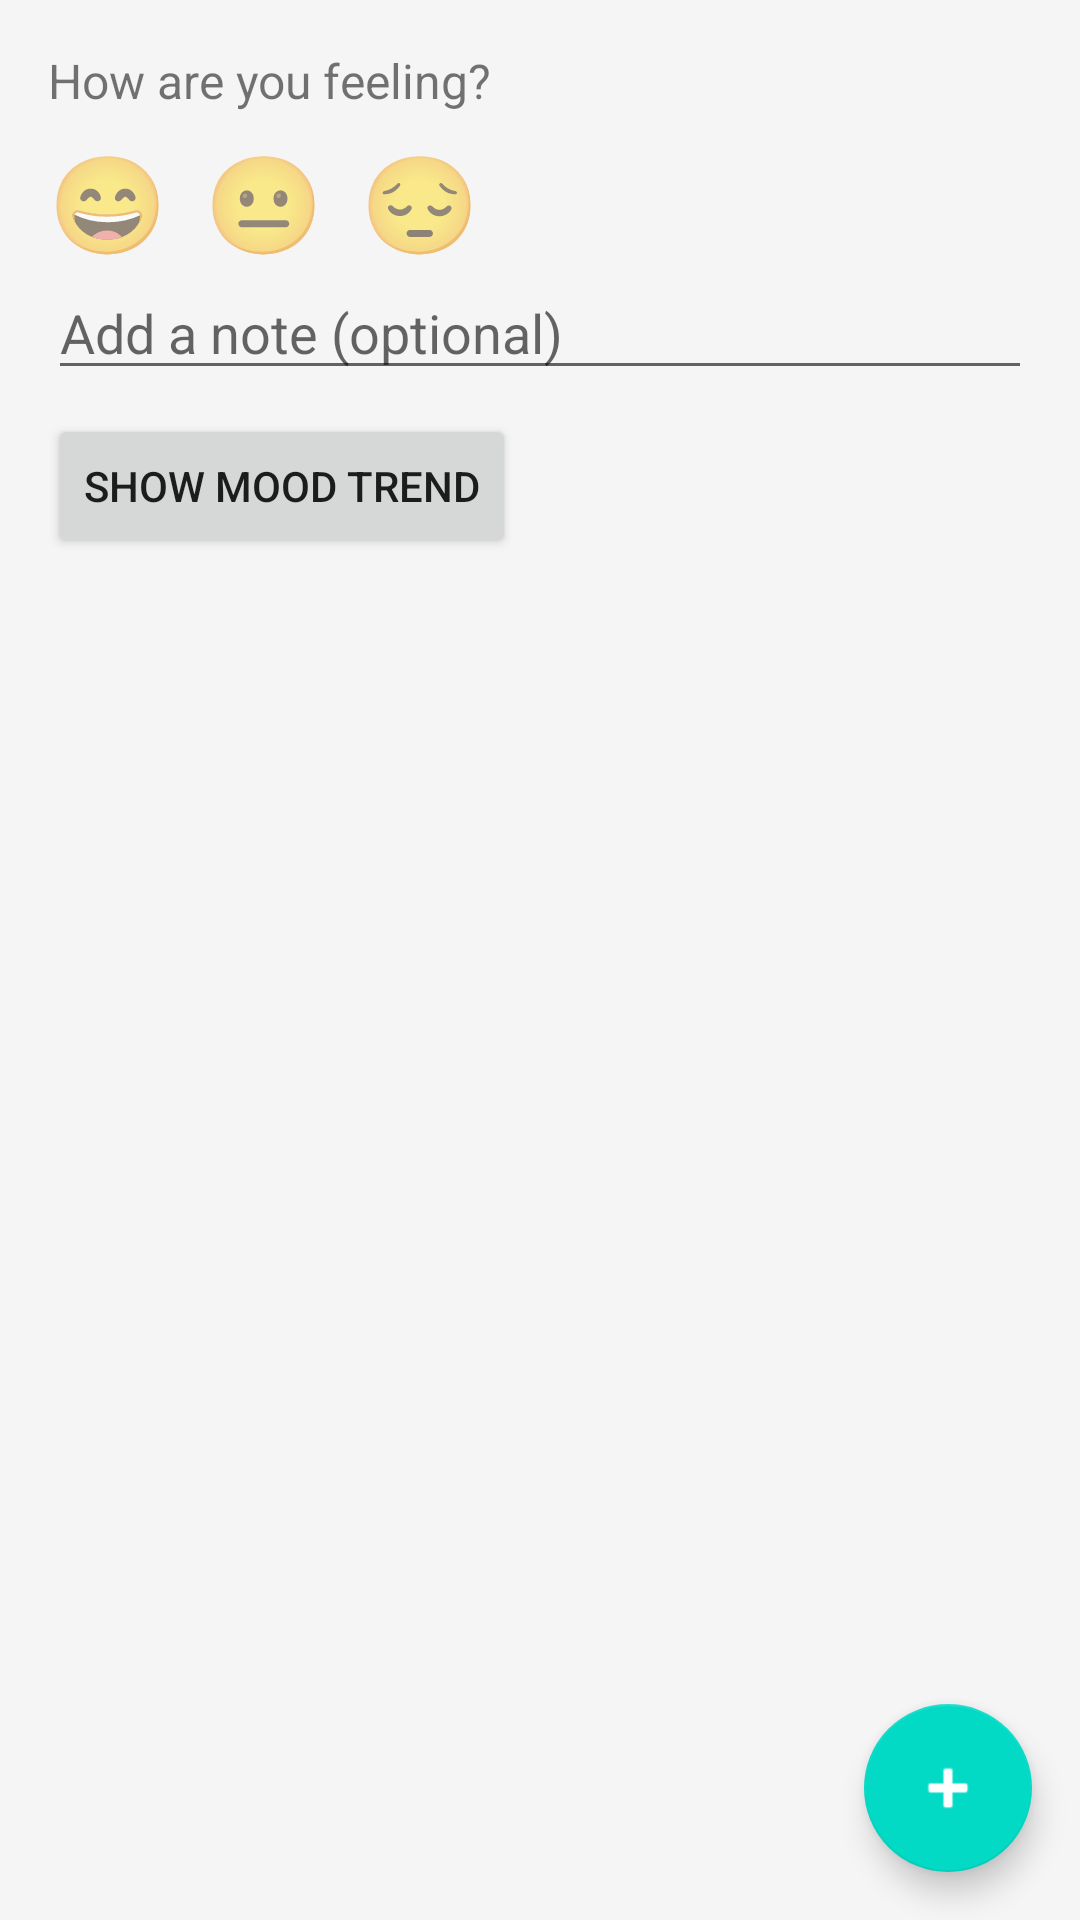

Named icons in this screenshot (1080px x 1920px) and their centers, point (x, y):
Save Mood: point (948, 1788)
